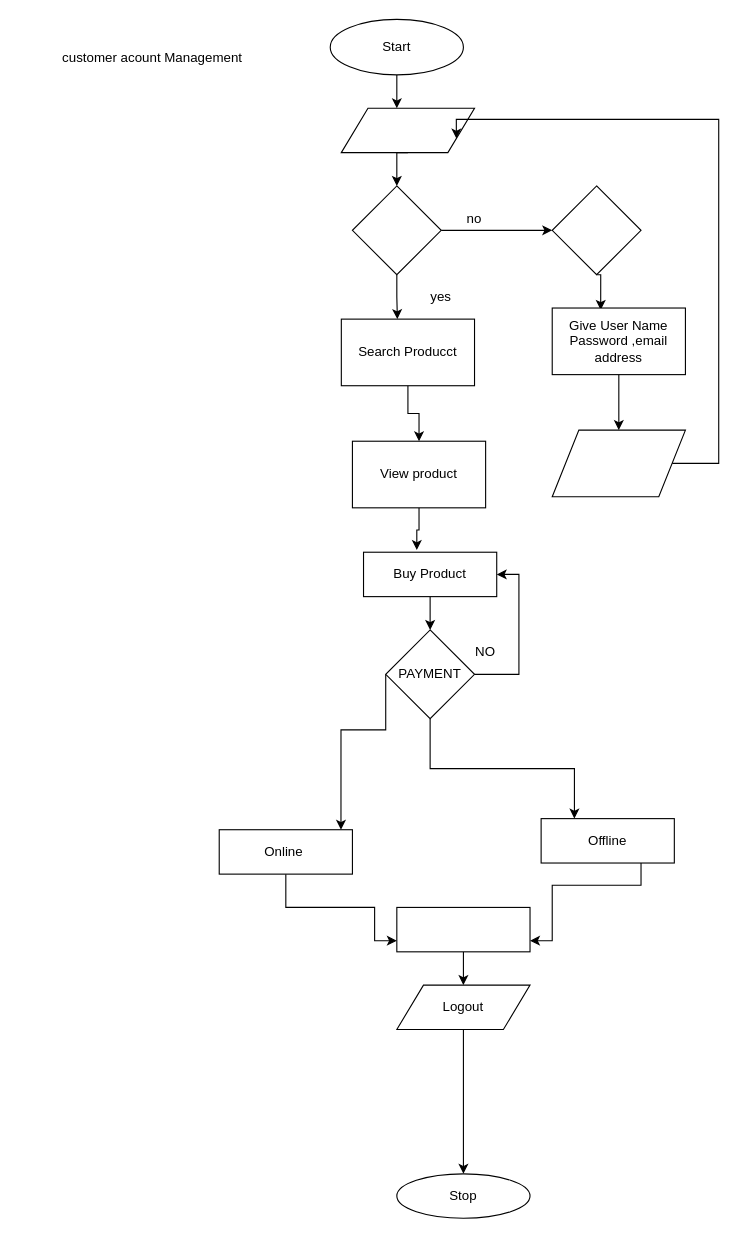
Some shapes in this 747 by 1238 pixel diagram are drawn without their labels. Here are the shapes that lost their labels. From the top down, the box of each, then its label:
(340, 107, 475, 153): user
(351, 185, 441, 275): Login
(551, 185, 641, 275): Register
(551, 429, 685, 497): CLICK CREATE OPTION
(396, 906, 530, 952): Order Placed
